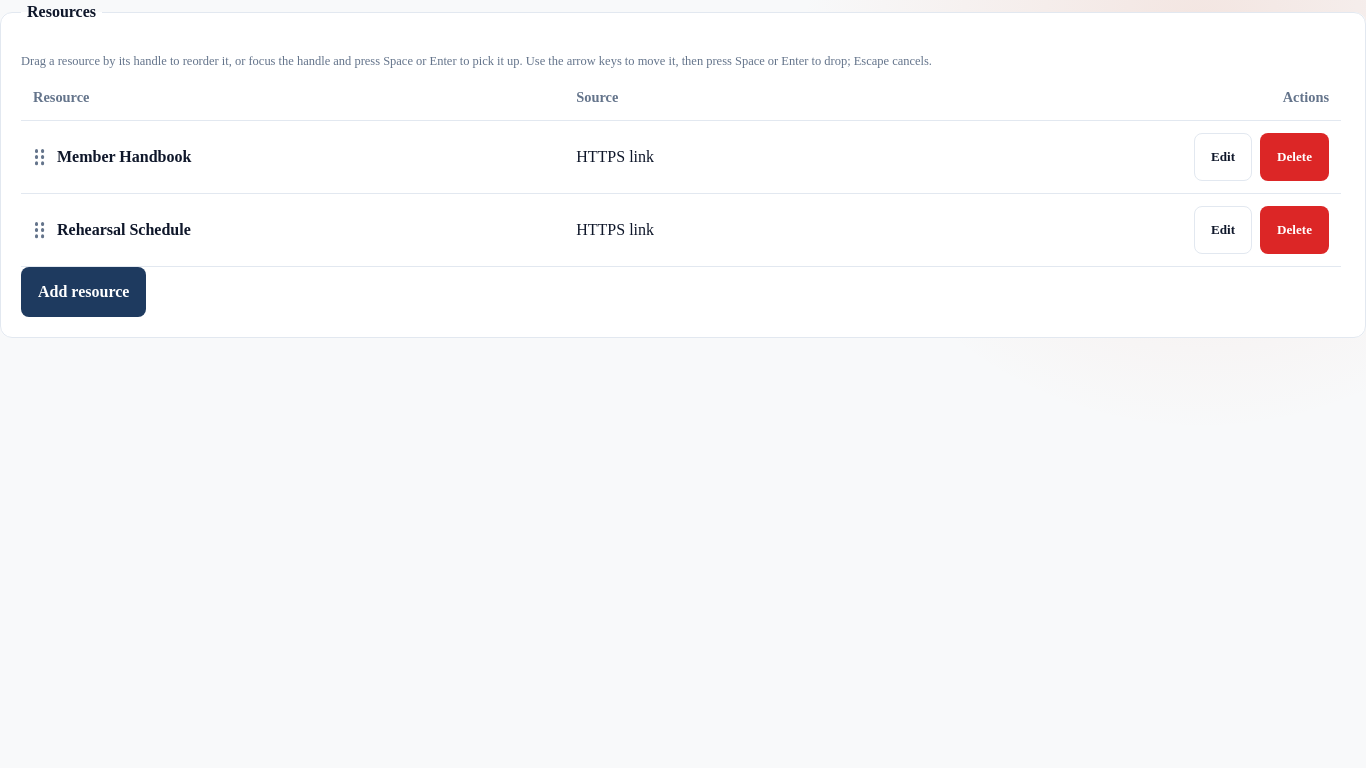
OrganizationResources UI component › authoritatively refetches resources after manager adds a new resource
The image size is (1366, 768).
Check: the text "Member Handbook" is shown, box [57,148,191,165]
Click the button "Add resource". click: point(84, 292)
box: [21,267,146,317]
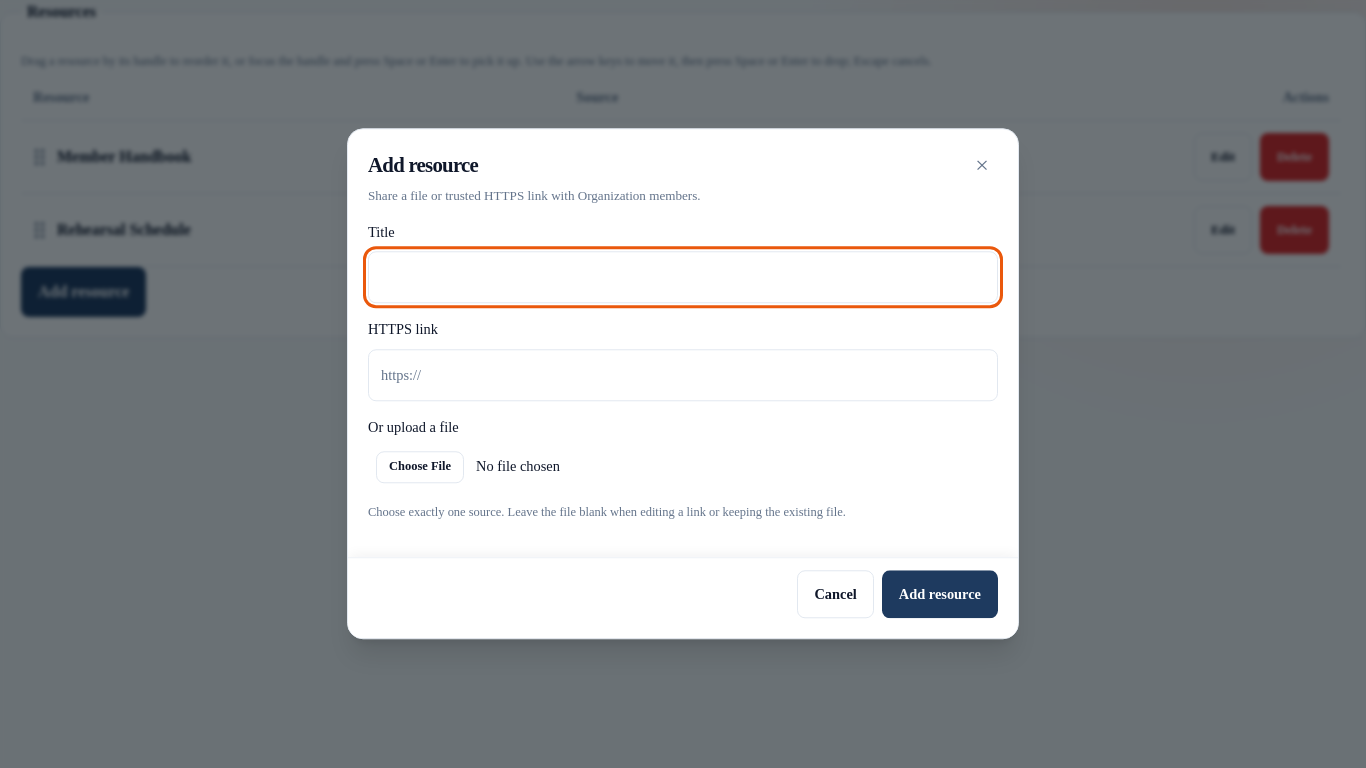
Type "Audio Guide" into the field labelled "Title". click: point(683, 278)
box: [368,252,998,304]
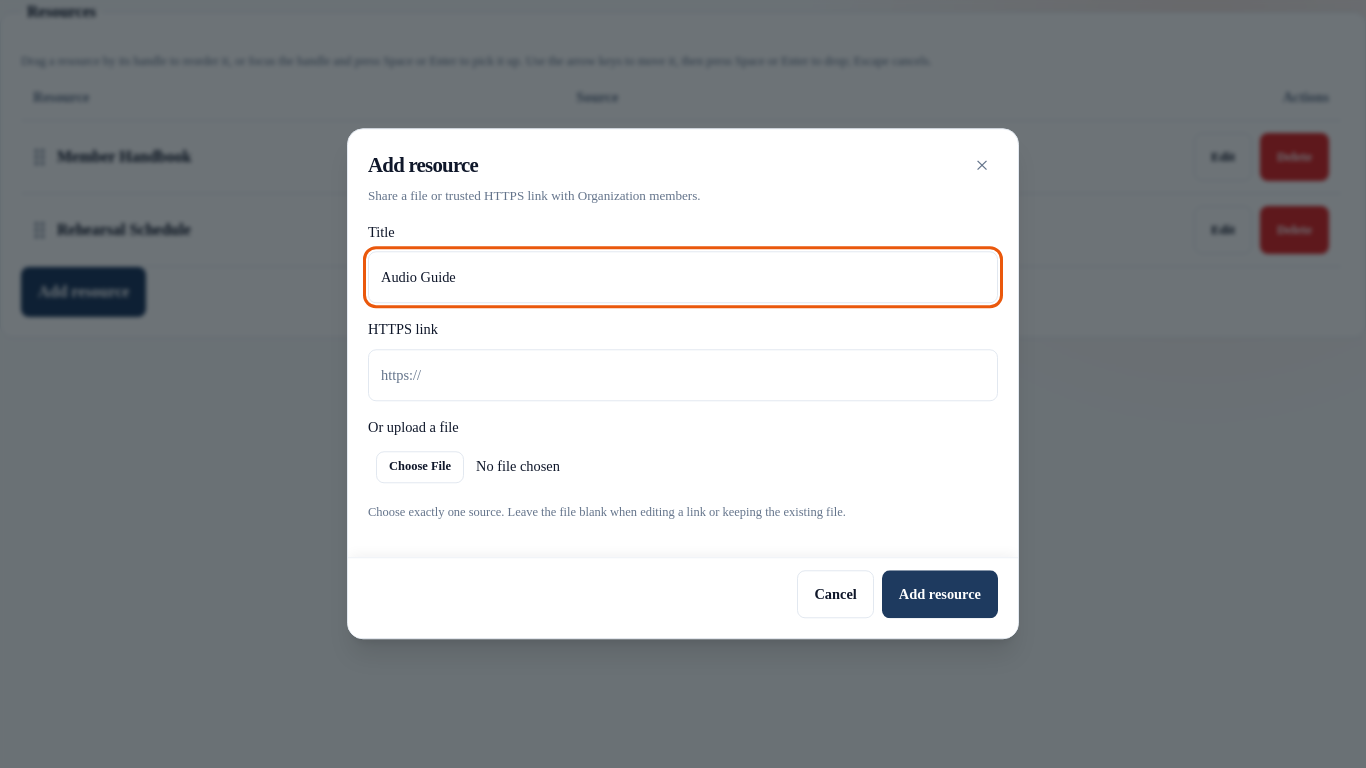
Type "https://example.test/audio" into the field labelled "HTTPS link". click: point(683, 375)
box: [368,349,998,401]
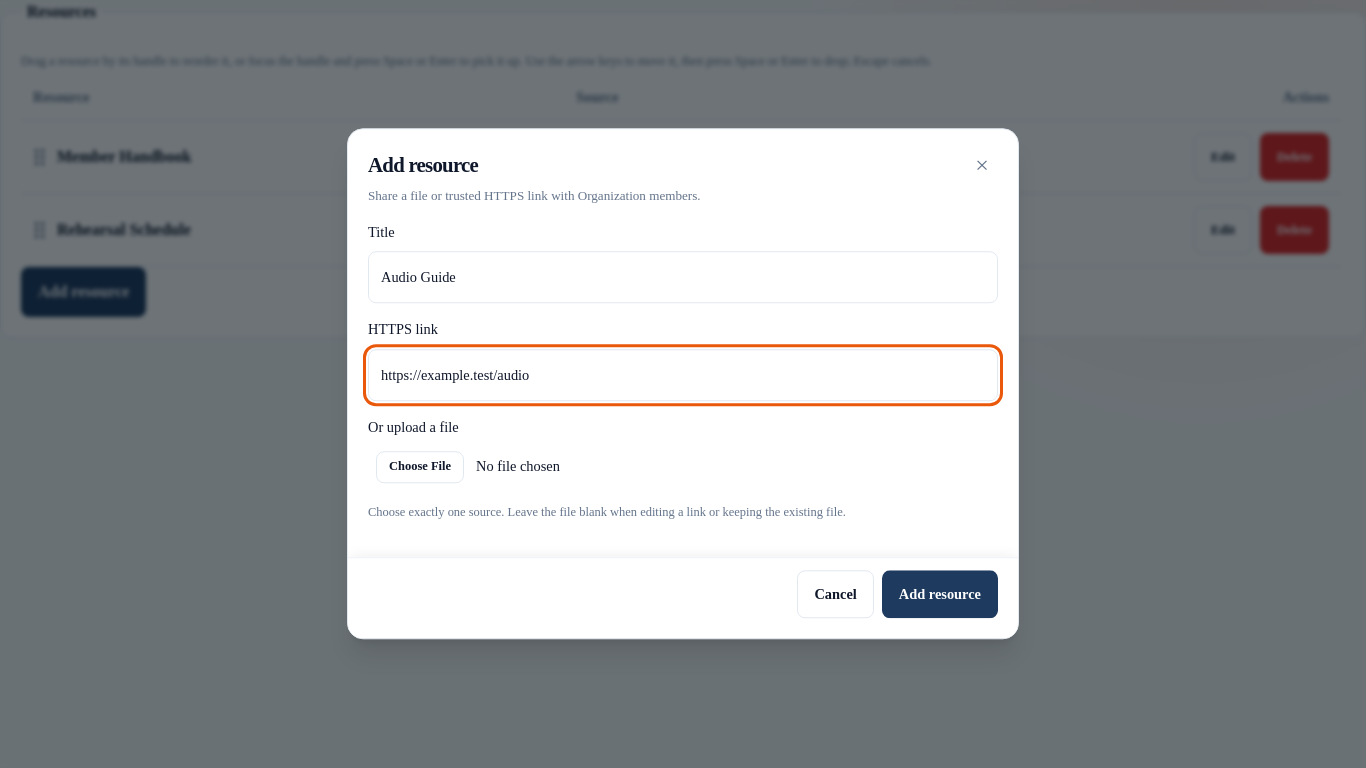
Click the button "Add resource". click: point(940, 595)
box: [882,571,998,619]
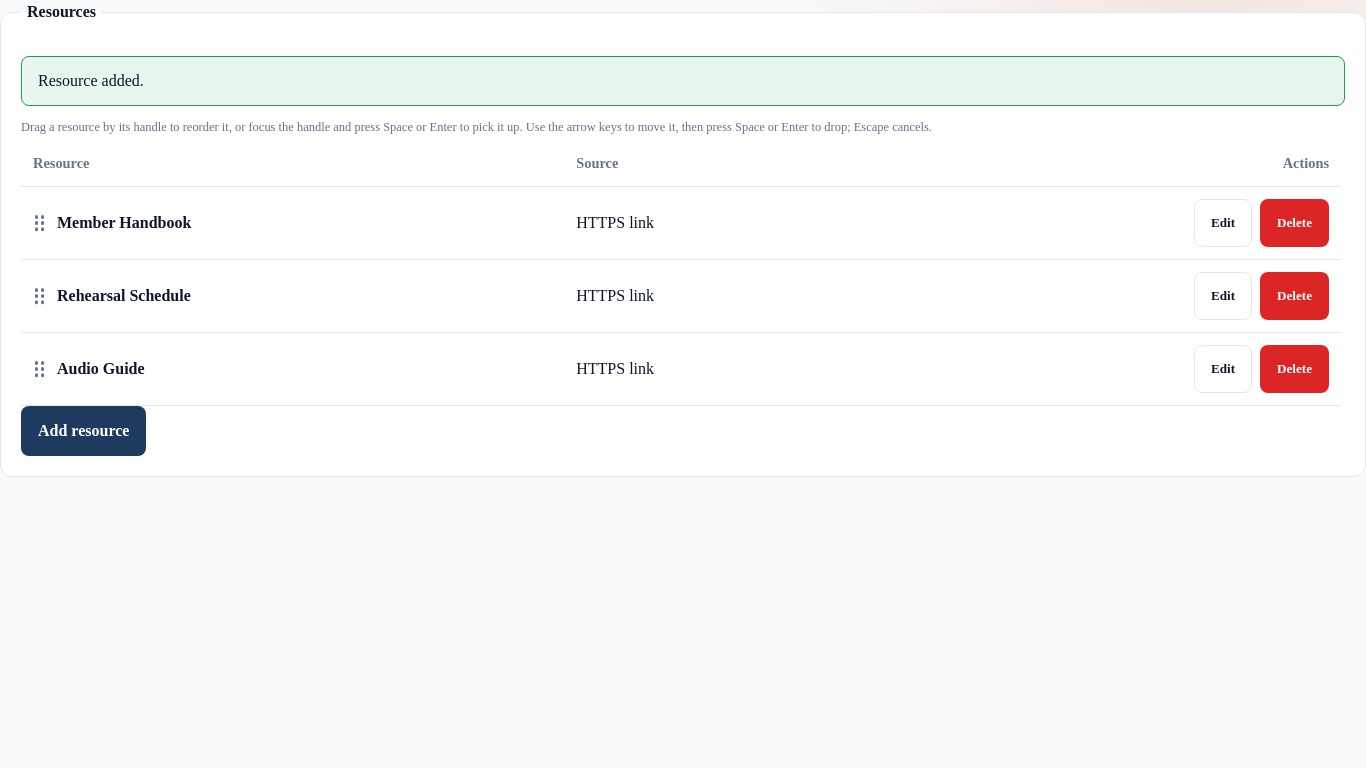
Check: the text "Audio Guide" is shown, box [57,360,145,377]
Check: the message reads "Resource added.", box [38,72,144,89]
